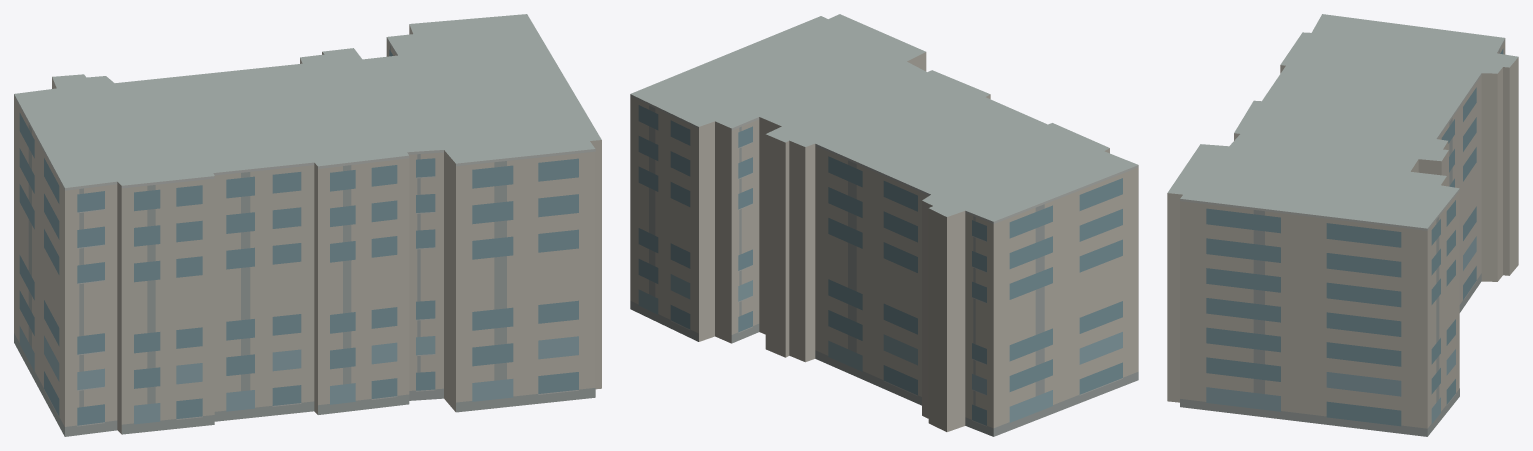
File: survey-upis-32855697.glb
3 renders of one model, left to right at view 1: azimuth 30°, elevation 25°; view 2: azimuth 150°, elevation 25°; view 3: azimuth 270°, elevation 25°, orthographic. The views are drawn at different scales.
Visible parts, largest first — view 1: survey-upis-32855697.tmp; view 2: survey-upis-32855697.tmp; view 3: survey-upis-32855697.tmp.
Boxes of the visible parts, <box> form: survey-upis-32855697.tmp: <box>14,14,601,436</box>; survey-upis-32855697.tmp: <box>630,14,1138,436</box>; survey-upis-32855697.tmp: <box>1167,14,1518,436</box>.
Size of the model in its own units: 50.95 by 23.06 by 35.25.
